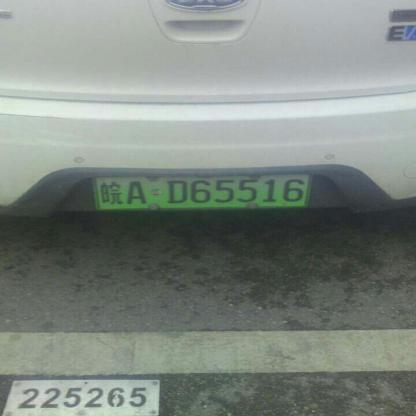lp: (96, 174, 308, 208)
